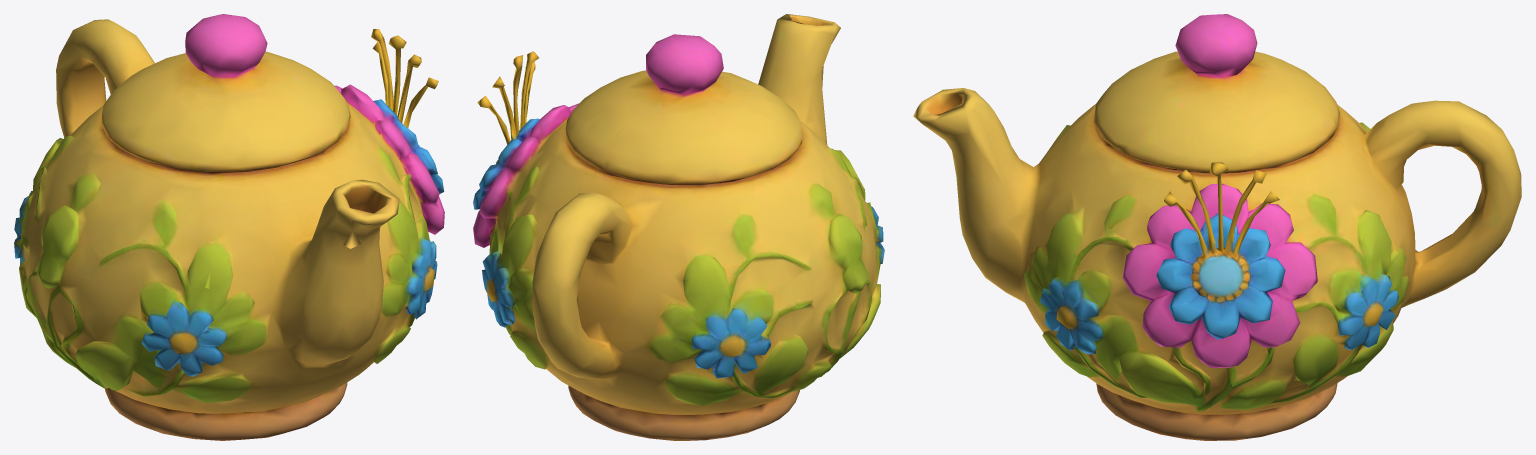
File: teapot.glb
3 views of the same model, side by side, from view 1: azimuth 30°, elevation 25°; view 2: azimuth 150°, elevation 25°; view 3: azimuth 270°, elevation 25° (orthographic). The views are drawn at different scales.
Visible parts, largest first — view 1: tripo_node_6cd0bfe4-02cb-4049-a3b2-2971a8ef2a31; view 2: tripo_node_6cd0bfe4-02cb-4049-a3b2-2971a8ef2a31; view 3: tripo_node_6cd0bfe4-02cb-4049-a3b2-2971a8ef2a31.
Boxes of the visible parts, x1,y1,x2,y2 form: tripo_node_6cd0bfe4-02cb-4049-a3b2-2971a8ef2a31: (14,14,444,440); tripo_node_6cd0bfe4-02cb-4049-a3b2-2971a8ef2a31: (473,14,884,440); tripo_node_6cd0bfe4-02cb-4049-a3b2-2971a8ef2a31: (913,14,1521,440).
Bounding box in the file's own units: 0.2735 × 0.25 × 0.3697.
Materials: 1 (1 with a texture image).
